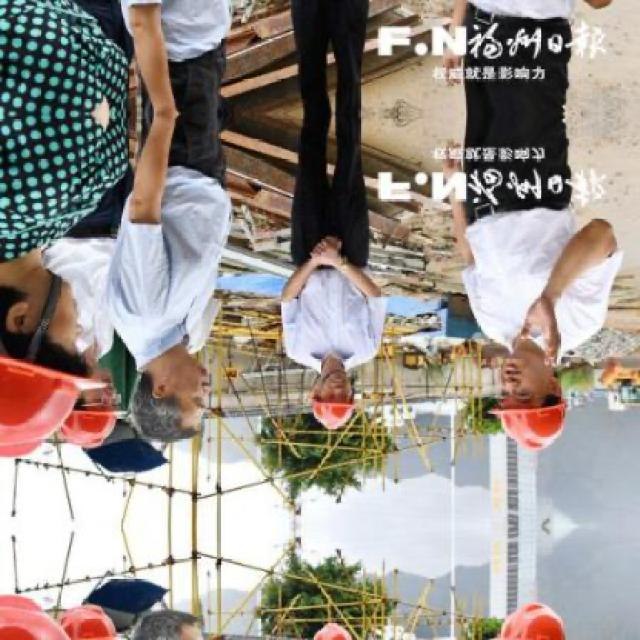con casco: (0, 261, 99, 458), (464, 342, 585, 482), (295, 374, 394, 429)
sin casco: (112, 361, 221, 439)
